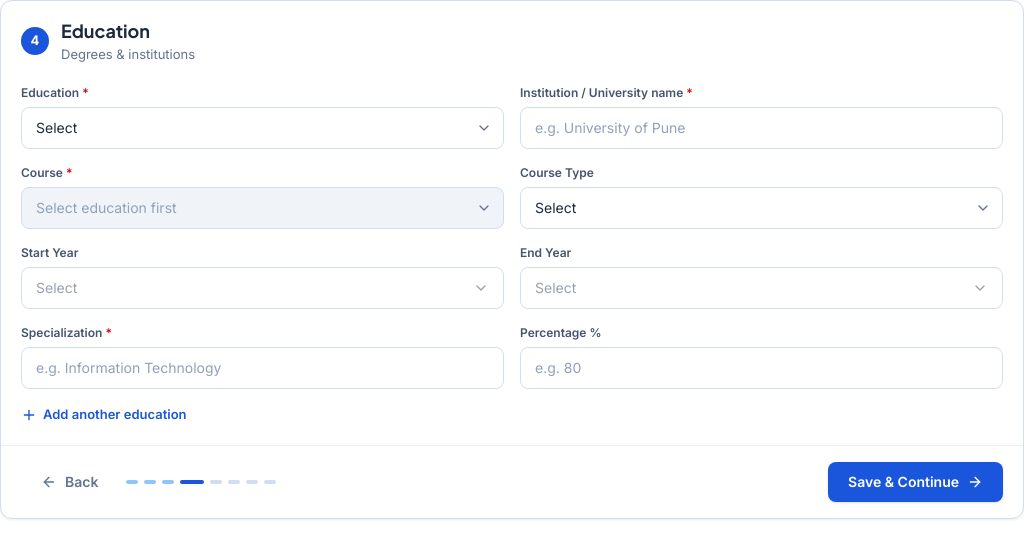
Test: EducationStep › fills the institution field from a suggestion
Step 1. Type "Patna" into the dropdown labelled "Institution / University name *" → (762, 128), box [520,106,1003,148]
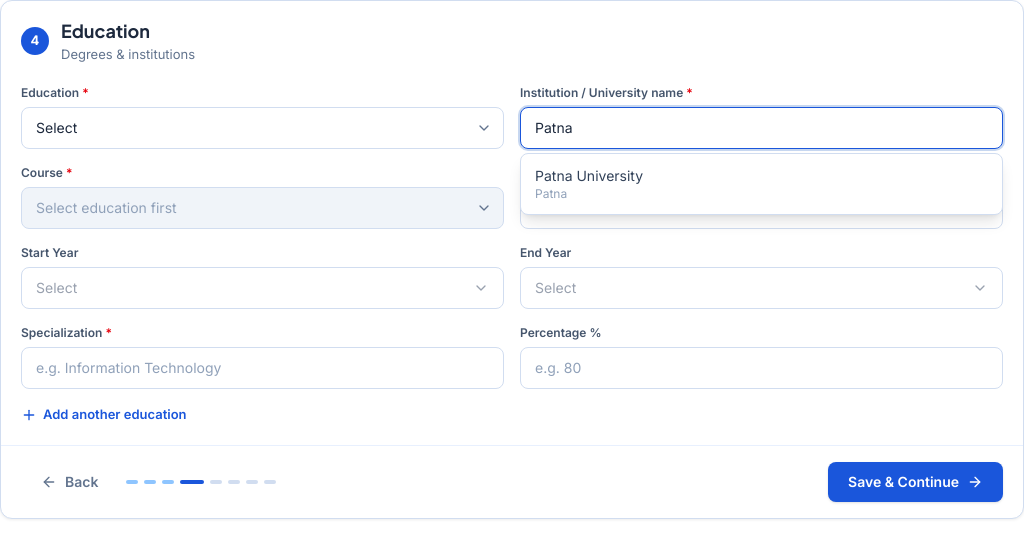
Step 2. Click the option "Patna University Patna" → (589, 184), box [535,166,643,200]
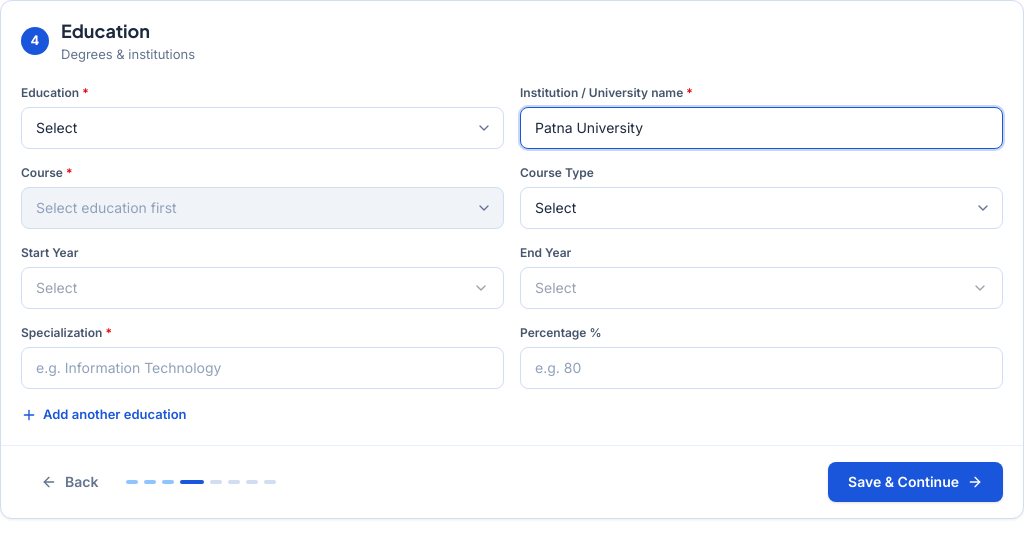
Check: the dropdown labelled "Institution / University name *" holds "Patna University", box [520,106,1003,148]
